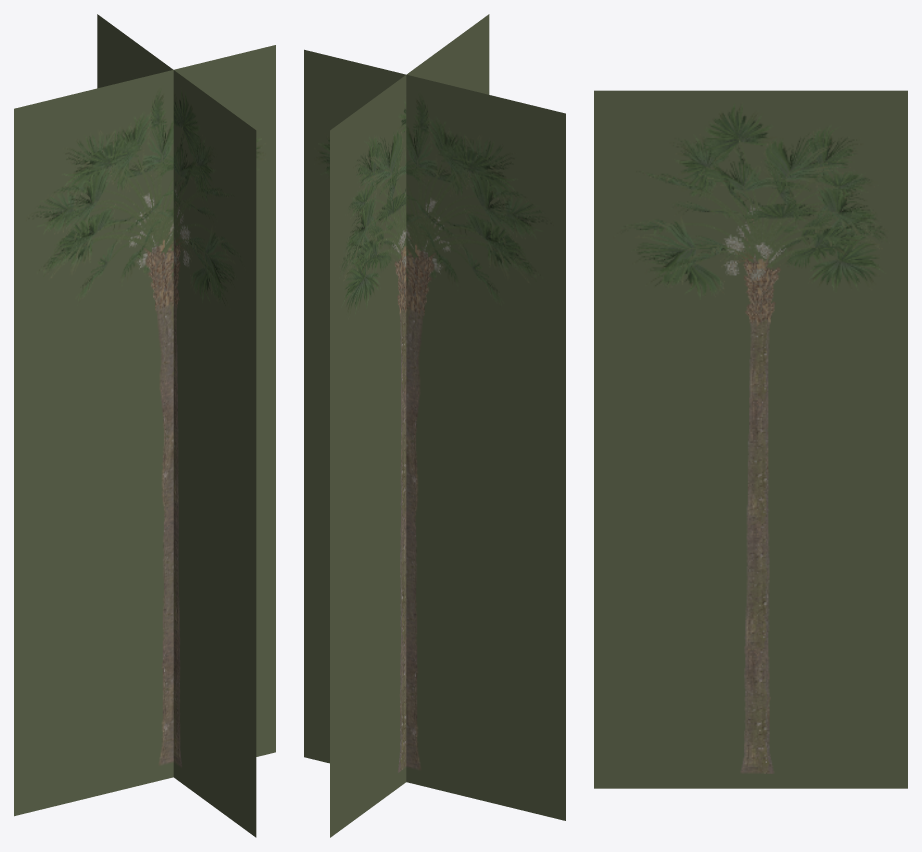
Rendered from SabalMexicana.glb.
3 renders of one model, left to right at view 1: azimuth 30°, elevation 25°; view 2: azimuth 150°, elevation 25°; view 3: azimuth 270°, elevation 25°, orthographic.
Parts seen in each view (by area): view 1: mesh__mat_billboard_16; view 2: mesh__mat_billboard_16; view 3: mesh__mat_billboard_16.
Boxes of the visible parts, left/top/right/bottom form: mesh__mat_billboard_16: left=14, top=14, right=275, bottom=837; mesh__mat_billboard_16: left=304, top=14, right=565, bottom=837; mesh__mat_billboard_16: left=594, top=90, right=907, bottom=788.
Size of the model in its own units: 7.39 by 19.09 by 7.78.
1 material, 1 textured.
